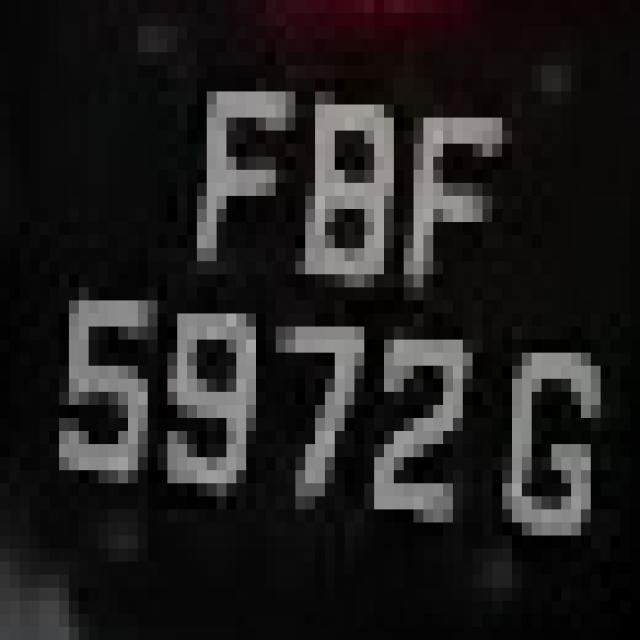2: (364, 300, 482, 575)
5: (49, 235, 158, 509)
7: (246, 262, 364, 522)
9: (167, 222, 266, 536)
B: (266, 65, 404, 314)
F: (167, 13, 276, 314), (394, 78, 502, 300)
G: (502, 314, 630, 574)
